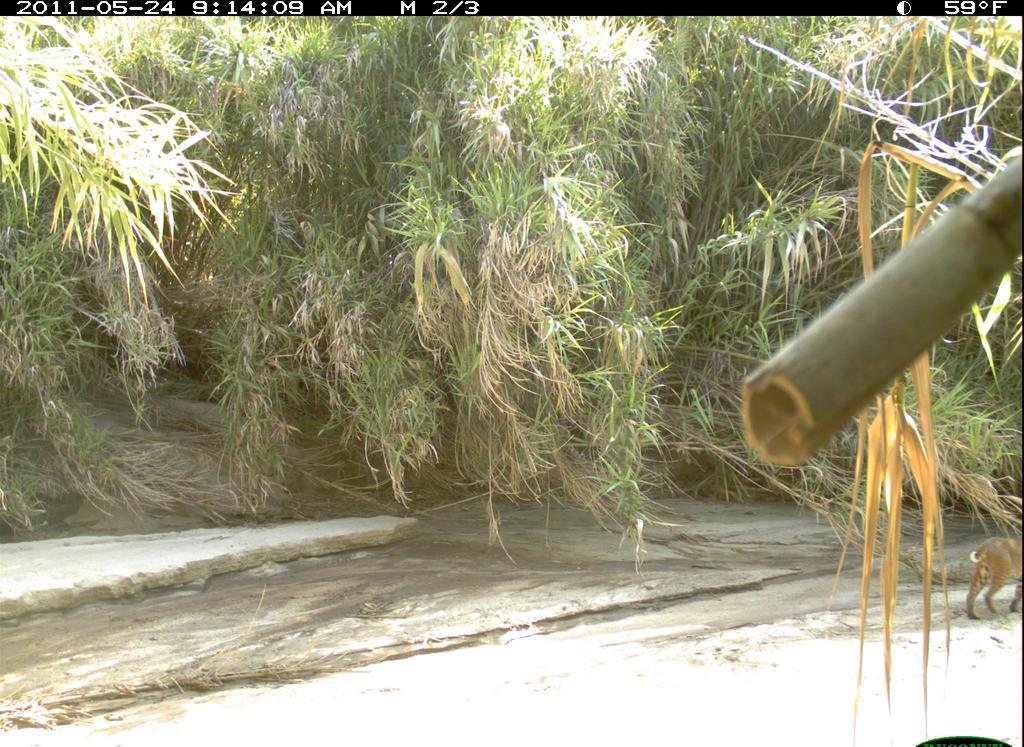bobcat: (964, 532, 1021, 621)
